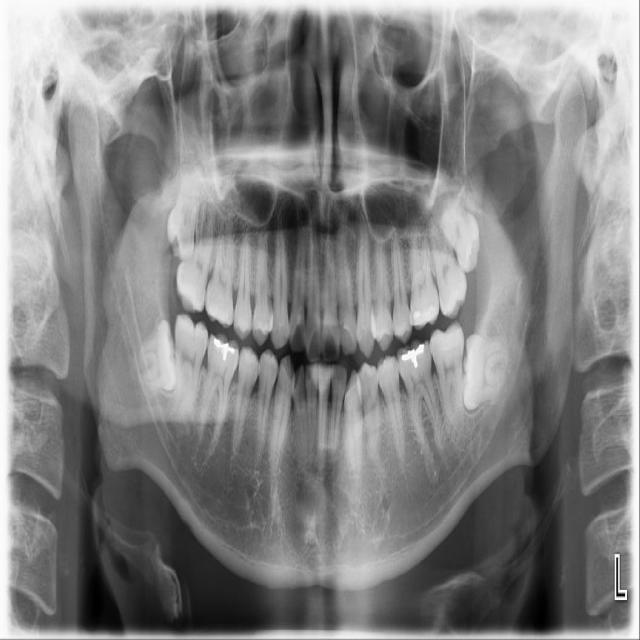3M ESPE Implant: (163, 162, 204, 262)
52: (204, 332, 241, 382), (396, 339, 432, 389), (410, 279, 439, 330)
73: (598, 596, 606, 614)
BioHorizons Implant: (425, 198, 472, 322)
BioLife Implant: (431, 188, 494, 275)
Biomet 3i Implant: (457, 332, 511, 415)
Blue Sky Bio Implant: (429, 320, 465, 431)
Caries: (171, 186, 221, 315)
Implant: (172, 313, 209, 426)
Keystone Dental Implant: (131, 317, 183, 397)
